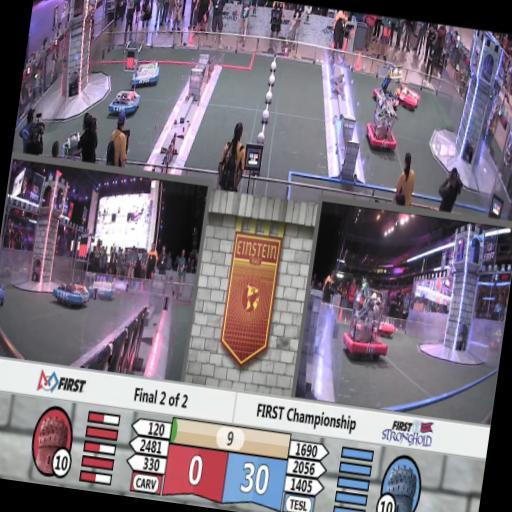robot: (339, 276, 396, 366), (106, 34, 150, 126), (364, 77, 407, 160), (371, 60, 406, 112), (52, 278, 94, 312), (392, 80, 423, 114), (130, 60, 162, 88), (88, 279, 118, 307), (373, 316, 400, 342), (0, 278, 8, 312)
